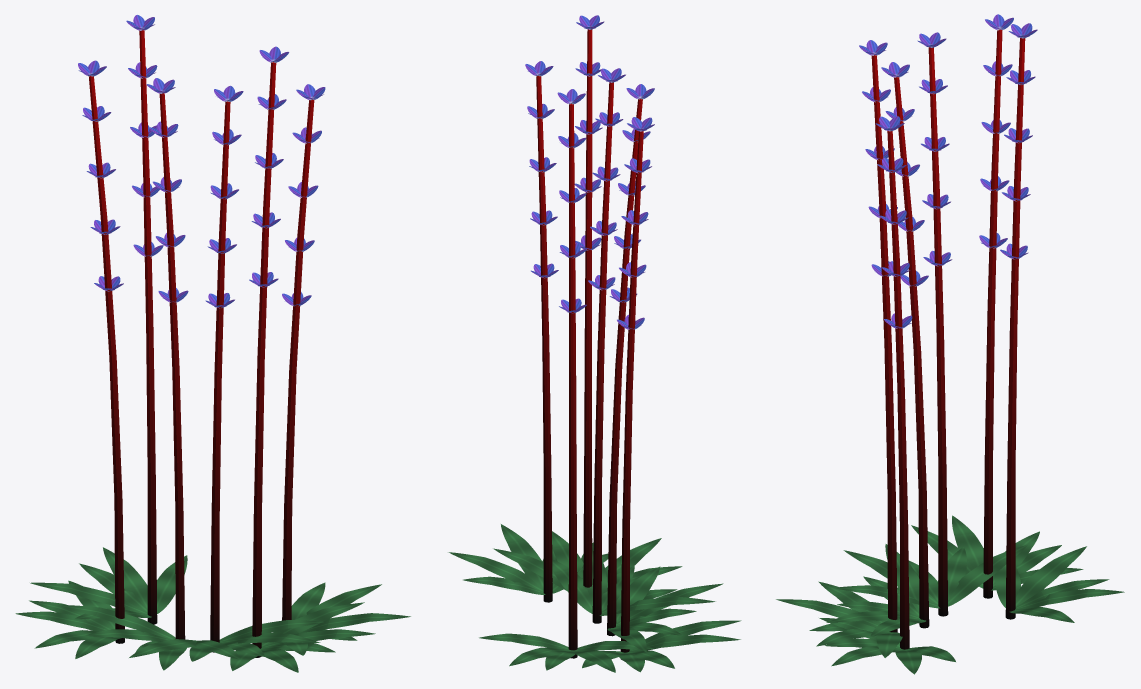
Rendered from lupine_v01.fbx.
The picture shows the model from 3 angles, left to right: view 1: azimuth 30°, elevation 25°; view 2: azimuth 150°, elevation 25°; view 3: azimuth 270°, elevation 25°; orthographic projection. The views are drawn at different scales.
Visible parts, largest first — view 1: lupine_v01; view 2: lupine_v01; view 3: lupine_v01.
Part boxes in pixels (x1,y1,x2,y2): lupine_v01: (15, 14, 410, 672); lupine_v01: (448, 15, 741, 672); lupine_v01: (776, 14, 1124, 674).
Size of the model in its own units: 50.14 by 47.01 by 87.36.
